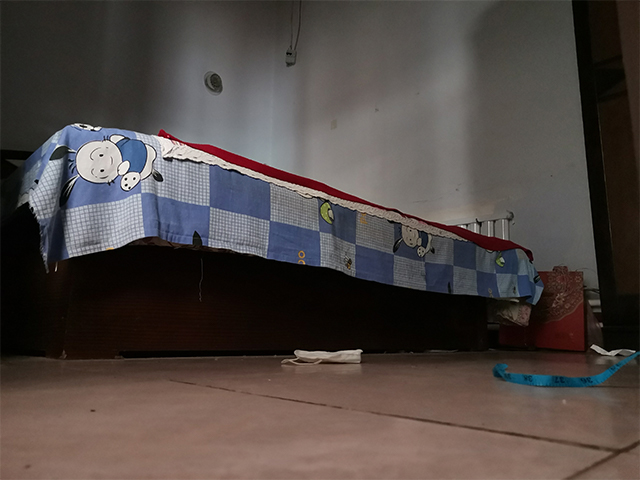bed: (1, 121, 547, 361)
socks: (278, 347, 365, 367)
